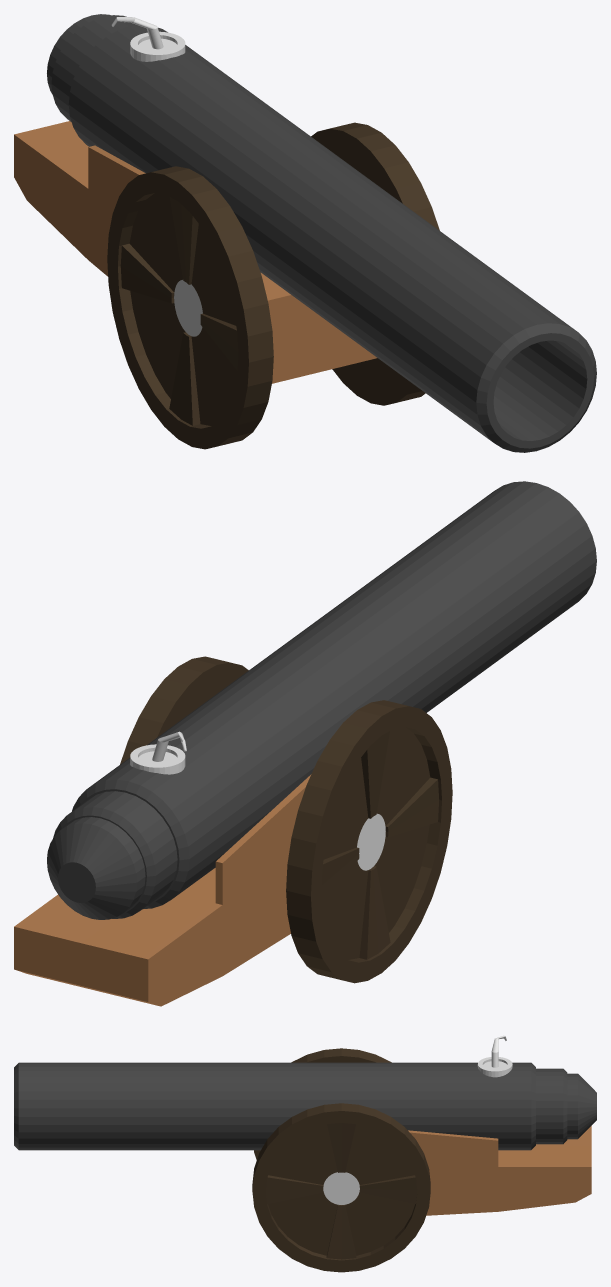
The model's file is cannon.fbx.
3 renders of one model, top to bottom at view 1: azimuth 30°, elevation 25°; view 2: azimuth 150°, elevation 25°; view 3: azimuth 270°, elevation 25°, orthographic. The views are drawn at different scales.
Visible parts, largest first — view 1: Cylinder, wheel1, wheel2, fuse; view 2: Cylinder, wheel1, wheel2, fuse; view 3: Cylinder, wheel2, wheel1, fuse.
Part boxes in pixels (x1,y1,x2,y2): Cylinder: [14, 14, 596, 452]; wheel1: [107, 166, 273, 449]; wheel2: [311, 122, 439, 405]; fuse: [111, 17, 185, 61]; Cylinder: [14, 481, 596, 1006]; wheel1: [286, 700, 452, 983]; wheel2: [120, 656, 248, 764]; fuse: [130, 731, 186, 774]; Cylinder: [14, 1062, 596, 1215]; wheel2: [252, 1103, 430, 1272]; wheel1: [254, 1048, 391, 1159]; fuse: [477, 1035, 512, 1077].
Size of the model in its own units: 193 by 282 by 760.
